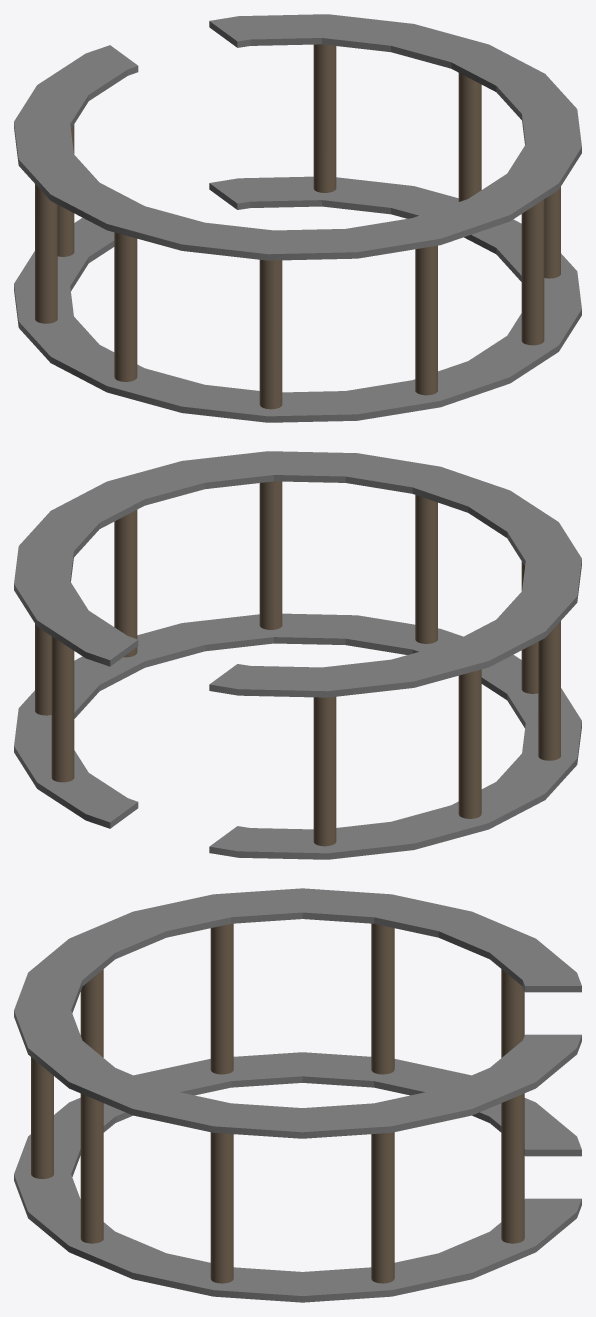
File: V2_CentreRing.fbx
3 renders of one model, top to bottom at view 1: azimuth 30°, elevation 25°; view 2: azimuth 150°, elevation 25°; view 3: azimuth 270°, elevation 25°, orthographic.
Parts seen in each view (by area): view 1: CentreRing; view 2: CentreRing; view 3: CentreRing.
Boxes of the visible parts, x1,y1,x2,y2 form: CentreRing: (14, 14, 581, 422); CentreRing: (14, 451, 581, 859); CentreRing: (14, 888, 581, 1302).
Size of the model in its own units: 4988 by 4908 by 1625.
